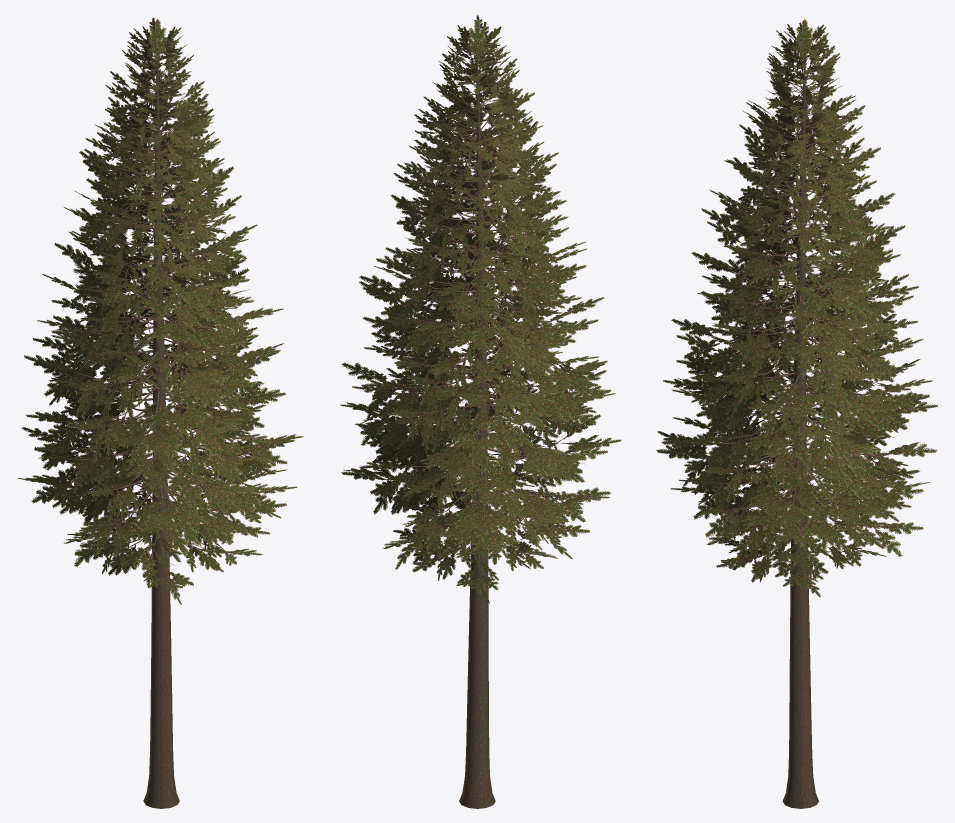
The model's file is fir_tall_b_lod0.gltf.
3 renders of one model, left to right at view 1: azimuth 30°, elevation 25°; view 2: azimuth 150°, elevation 25°; view 3: azimuth 270°, elevation 25°, orthographic.
Visible parts, largest first — view 1: fir_tall_b_LOD0; view 2: fir_tall_b_LOD0; view 3: fir_tall_b_LOD0.
Boxes of the visible parts, x1,y1,x2,y2 form: fir_tall_b_LOD0: [17, 17, 303, 808]; fir_tall_b_LOD0: [340, 15, 621, 808]; fir_tall_b_LOD0: [656, 19, 938, 808].
Bounding box in the file's own units: 11.59 × 33.59 × 11.29.
Materials: 2 (2 with a texture image).
